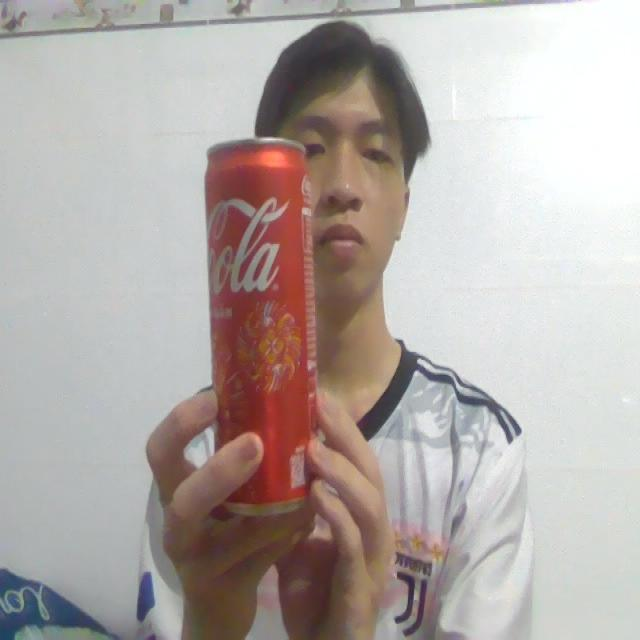cocacola: (182, 120, 346, 525)
